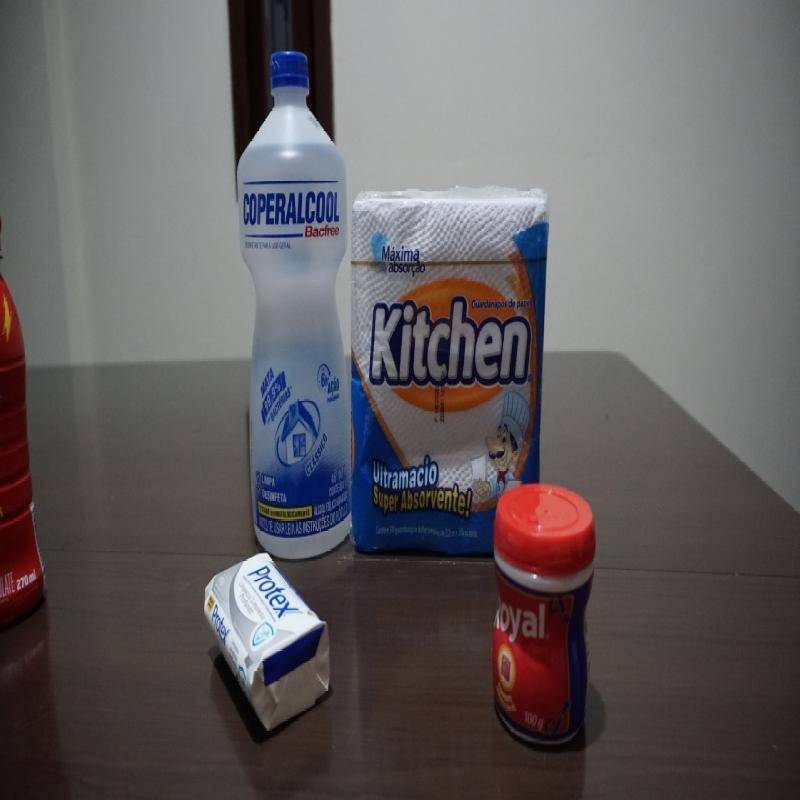Alcohol Bottle: (233, 53, 356, 563)
Chocolate Milk: (0, 270, 53, 622)
Napkin: (350, 178, 547, 567)
Soap: (200, 542, 342, 726)
Yeast: (492, 484, 598, 748)
